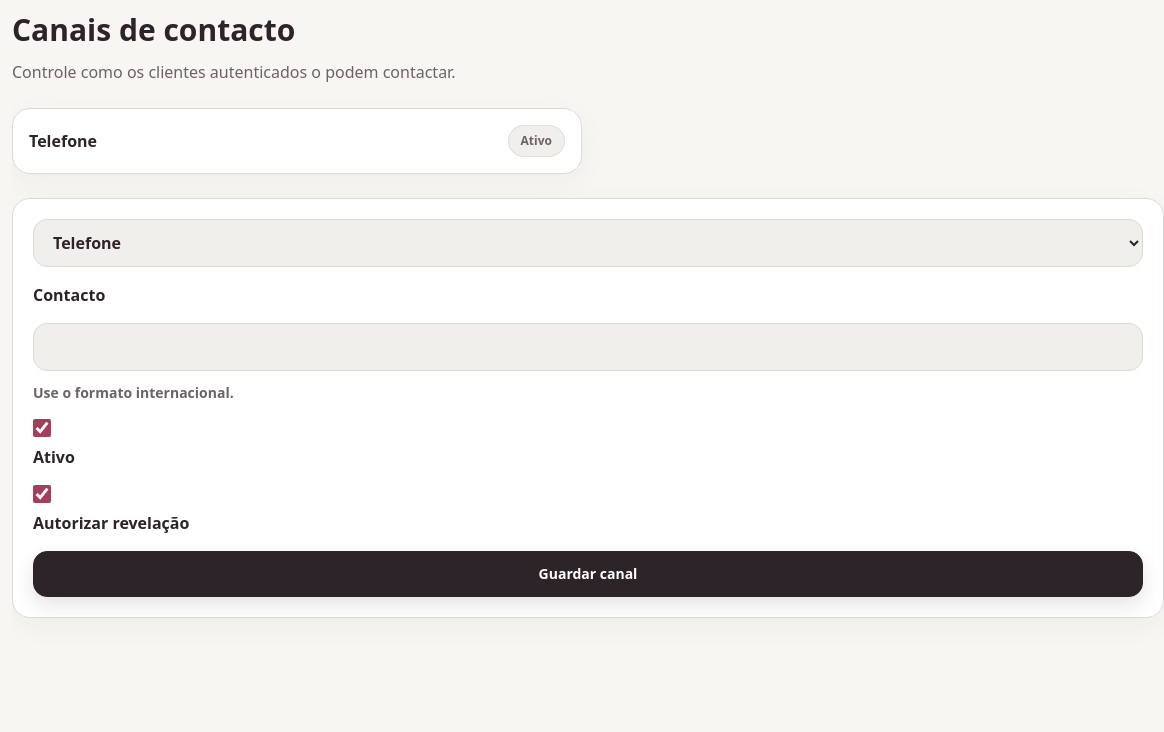
Scenario: ContactChannelsCard › loads status-only channels and saves a private update without rendering the value
This screenshot has width=1164, height=732.
Expected: the dropdown named "Telefone" is shown, [33,219,1143,267]
Type "+12025550123" into the field at (588, 347), box [33,323,1143,371]
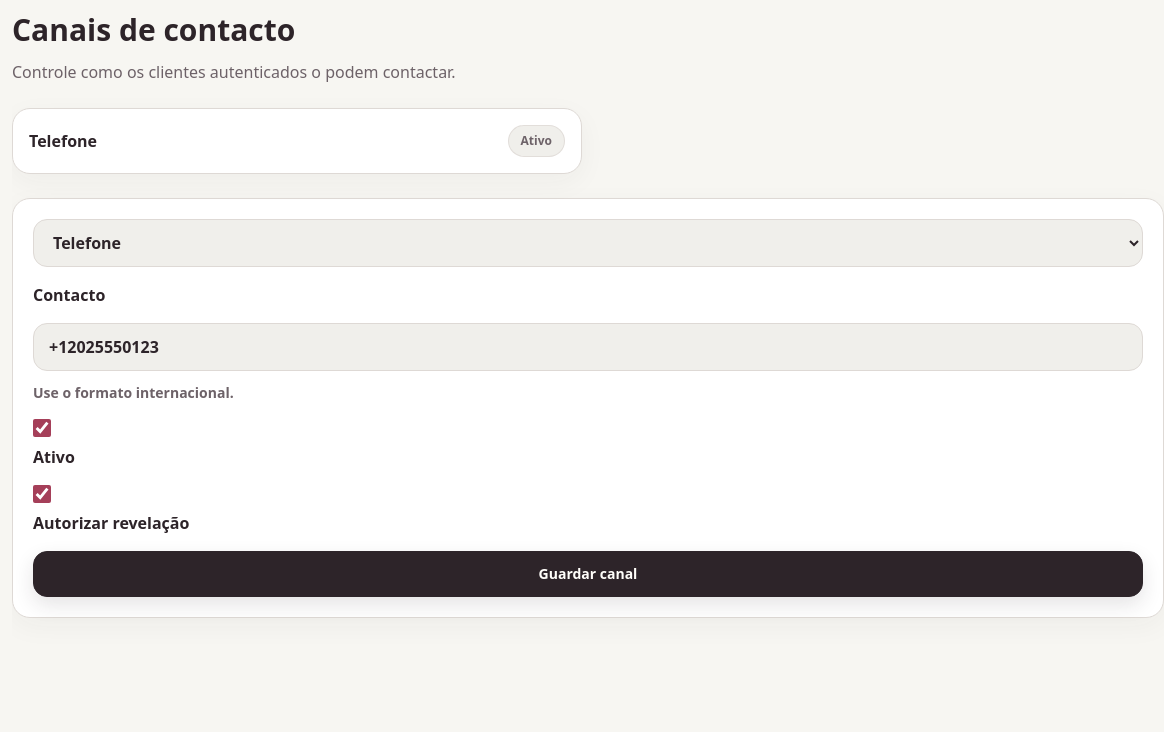
Click the button "Guardar canal" at (588, 574), box [33,551,1143,597]
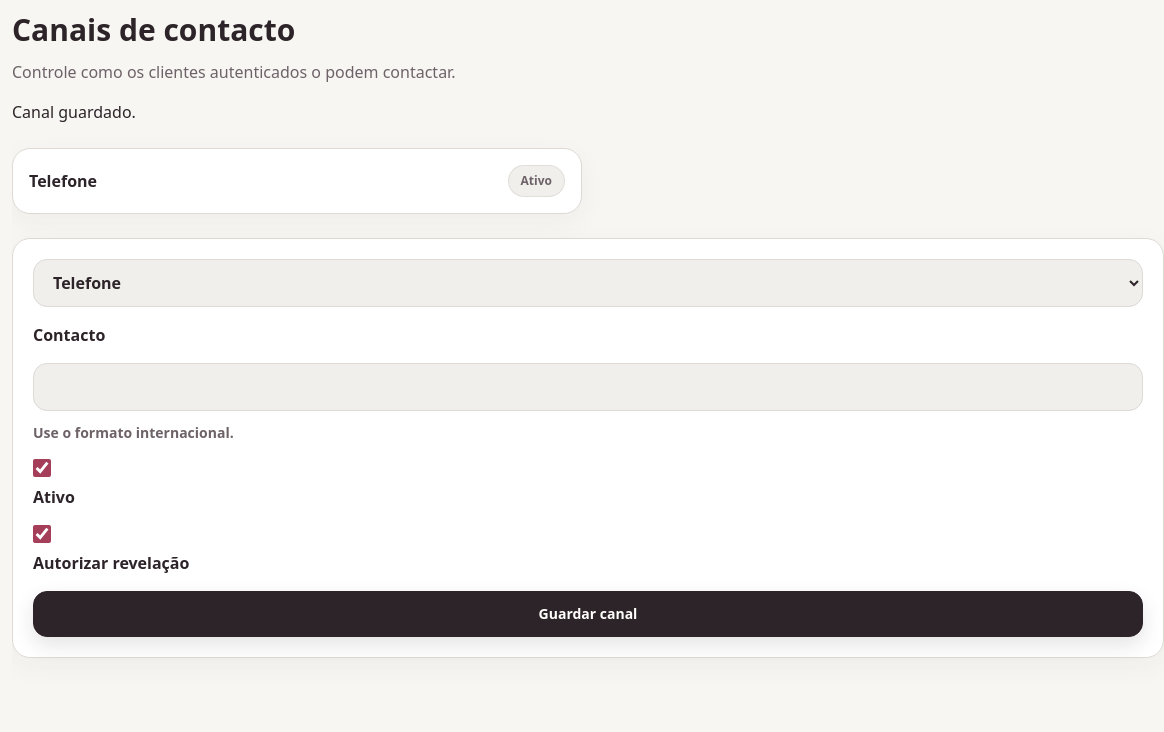
Expected: the field showing "+12025550123" is not shown
Expected: the text "Canal guardado." is shown, [12,101,136,123]
